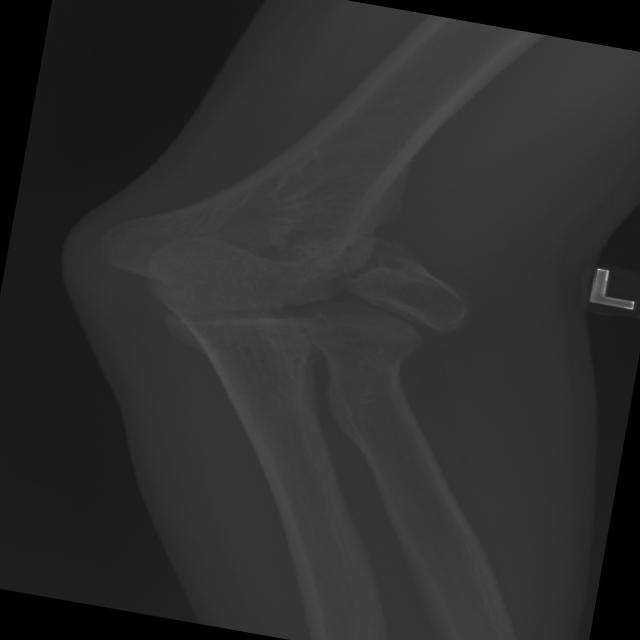elbow positive: (78, 138, 277, 340)
